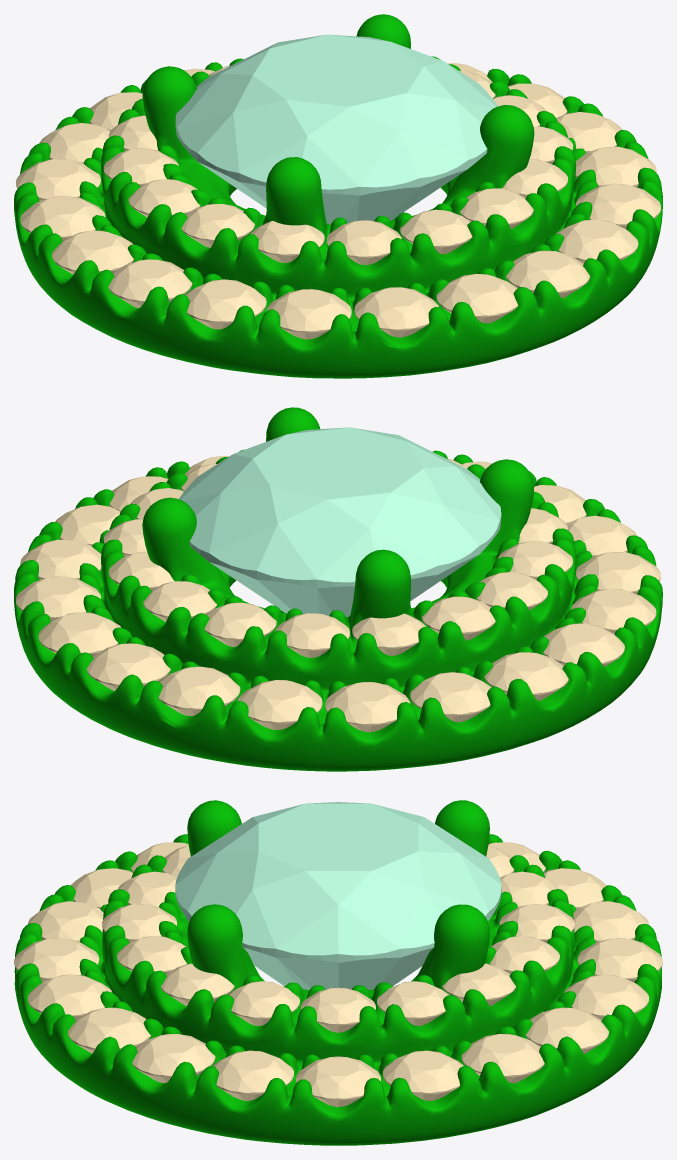
3 renders of one model, top to bottom at view 1: azimuth 30°, elevation 25°; view 2: azimuth 150°, elevation 25°; view 3: azimuth 270°, elevation 25°, orthographic.
Visible parts, largest first — view 1: Metal01, CS_Diamond, Diamond_Round.004, Diamond_Round.003, Diamond_Round.005, Diamond_Round.002, Diamond_Round.006, Diamond_Round.001, Diamond_Round.007, Diamond_Round.020, Diamond_Round.008, Diamond_Round.019 (+17 smaller); view 2: Metal01, CS_Diamond, Diamond_Round.011, Diamond_Round.010, Diamond_Round.012, Diamond_Round.009, Diamond_Round.013, Diamond_Round.008, Diamond_Round.007, Diamond_Round.014, Diamond_Round.006, Diamond_Round.015 (+17 smaller); view 3: Metal01, CS_Diamond, Diamond_Round.017, Diamond_Round.018, Diamond_Round.016, Diamond_Round.015, Diamond_Round.019, Diamond_Round.014, Diamond_Round.020, Diamond_Round.013, Diamond_Round.001, Diamond_Round.012 (+20 smaller).
Part boxes in pixels (<box>): Metal01: <box>14,14,662,378</box>; CS_Diamond: <box>175,34,497,224</box>; Diamond_Round.004: <box>266,289,351,339</box>; Diamond_Round.003: <box>354,287,438,337</box>; Diamond_Round.005: <box>185,279,266,329</box>; Diamond_Round.002: <box>436,274,518,323</box>; Diamond_Round.006: <box>108,259,192,307</box>; Diamond_Round.001: <box>506,250,589,298</box>; Diamond_Round.007: <box>52,230,133,274</box>; Diamond_Round.020: <box>556,219,638,263</box>; Diamond_Round.008: <box>20,196,105,240</box>; Diamond_Round.019: <box>576,183,661,228</box>; Metal01: <box>14,407,662,771</box>; CS_Diamond: <box>179,427,501,616</box>; Diamond_Round.011: <box>237,680,322,729</box>; Diamond_Round.010: <box>325,682,410,732</box>; Diamond_Round.012: <box>158,666,240,715</box>; Diamond_Round.009: <box>410,672,491,722</box>; Diamond_Round.013: <box>87,643,170,690</box>; Diamond_Round.008: <box>484,652,568,700</box>; Diamond_Round.007: <box>543,623,624,666</box>; Diamond_Round.014: <box>38,612,121,656</box>; Diamond_Round.006: <box>571,588,656,633</box>; Diamond_Round.015: <box>16,576,100,621</box>; Metal01: <box>14,800,661,1145</box>; CS_Diamond: <box>175,802,501,989</box>; Diamond_Round.017: <box>296,1056,380,1106</box>; Diamond_Round.018: <box>212,1050,293,1100</box>; Diamond_Round.016: <box>383,1050,463,1100</box>; Diamond_Round.015: <box>461,1034,544,1083</box>; Diamond_Round.019: <box>132,1034,215,1082</box>; Diamond_Round.014: <box>525,1007,608,1053</box>; Diamond_Round.020: <box>68,1007,150,1053</box>; Diamond_Round.013: <box>564,974,649,1019</box>; Diamond_Round.001: <box>27,974,112,1019</box>; Diamond_Round.012: <box>577,938,662,982</box>.
Bounding box in the file's own units: 12.93 × 6.45 × 12.93.
